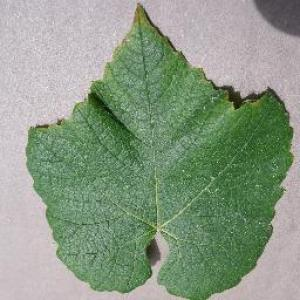Folha: (25, 1, 294, 299)
